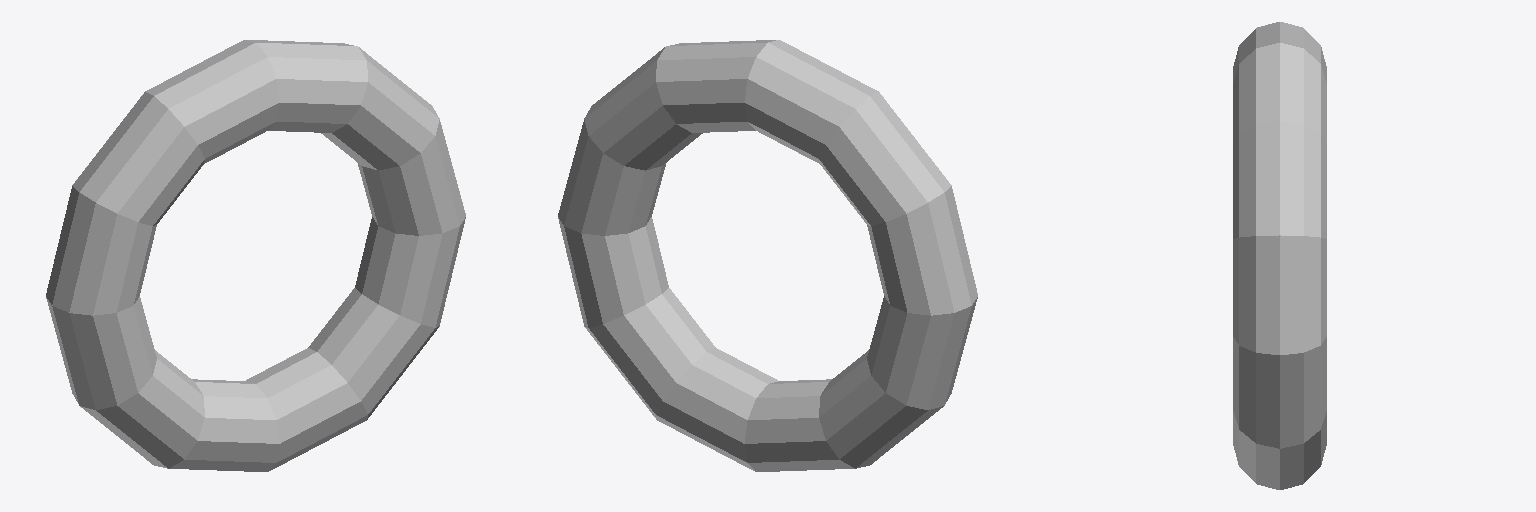
The model's file is PaddleRing.obj.
The picture shows the model from 3 angles: view 1: azimuth 30°, elevation 25°; view 2: azimuth 150°, elevation 25°; view 3: azimuth 270°, elevation 25°; orthographic projection.
Parts seen in each view (by area): view 1: Torus; view 2: Torus; view 3: Torus.
Part boxes in pixels (x1,y1,x2,y2): Torus: (46,40,465,471); Torus: (558,40,977,471); Torus: (1233,22,1326,489).
Bounding box in the file's own units: 2.5 × 2.5 × 0.5.